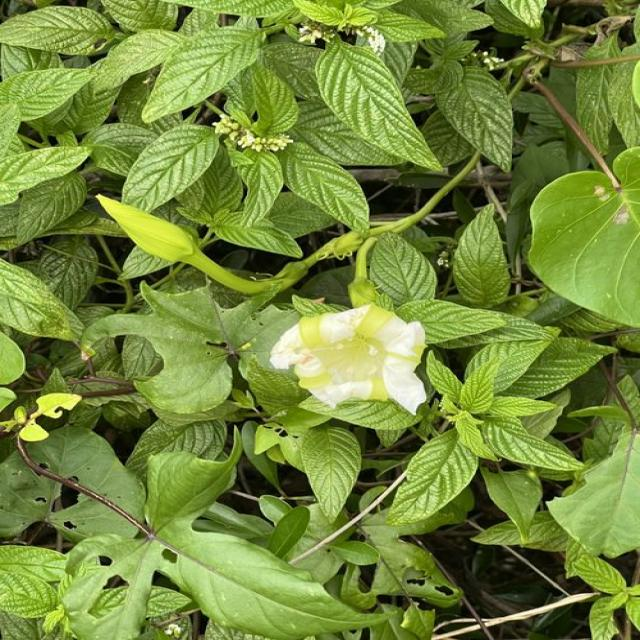ipomoea: (265, 302, 431, 418), (209, 108, 297, 158)
